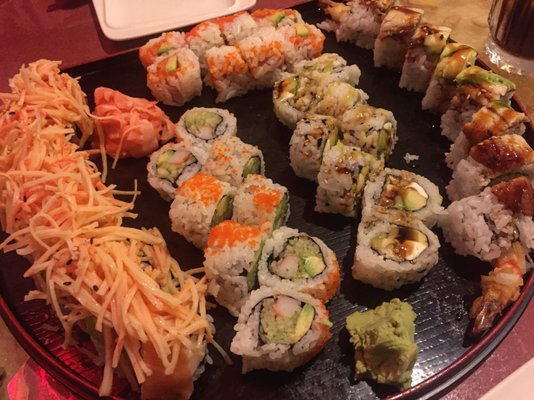pizza: (482, 0, 534, 79)
